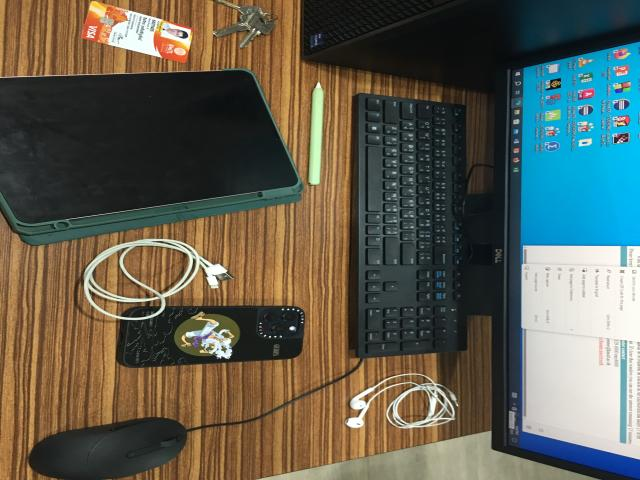Keys: (201, 0, 277, 49)
Mobile phone: (117, 305, 305, 370)
Mouse: (27, 418, 191, 480)
wire: (85, 240, 231, 323), (346, 375, 458, 430)
